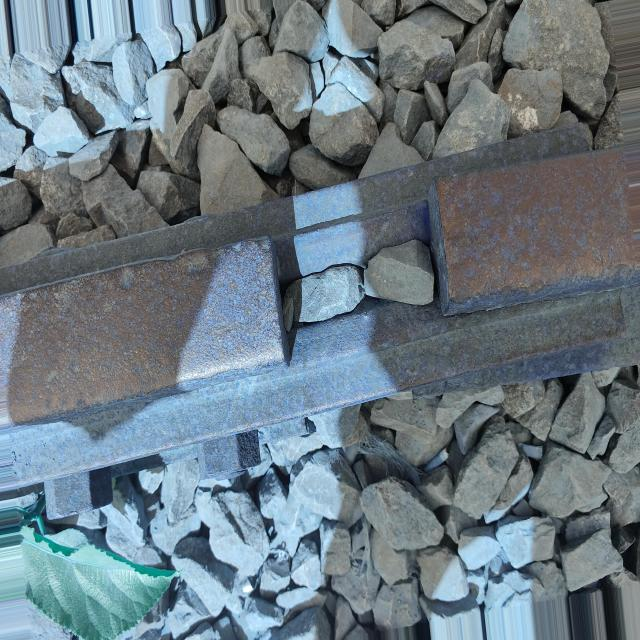crack: (238, 120, 472, 396)
